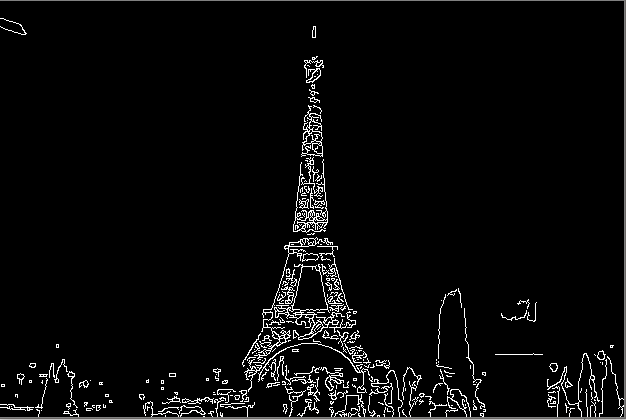eiffel tower: (215, 27, 389, 367)
